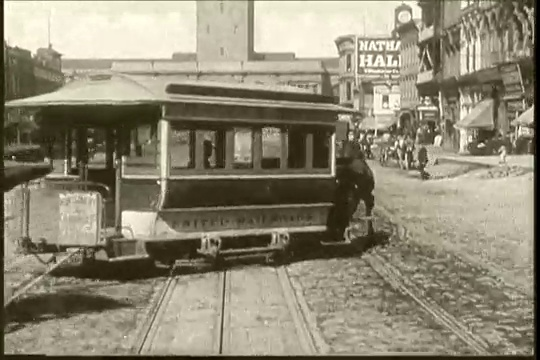trolley: (10, 61, 418, 283)
